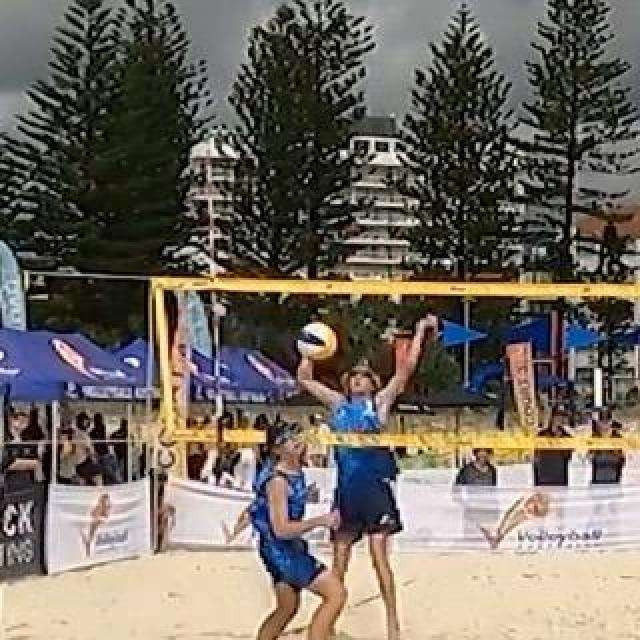volleyball: (299, 322, 339, 360)
